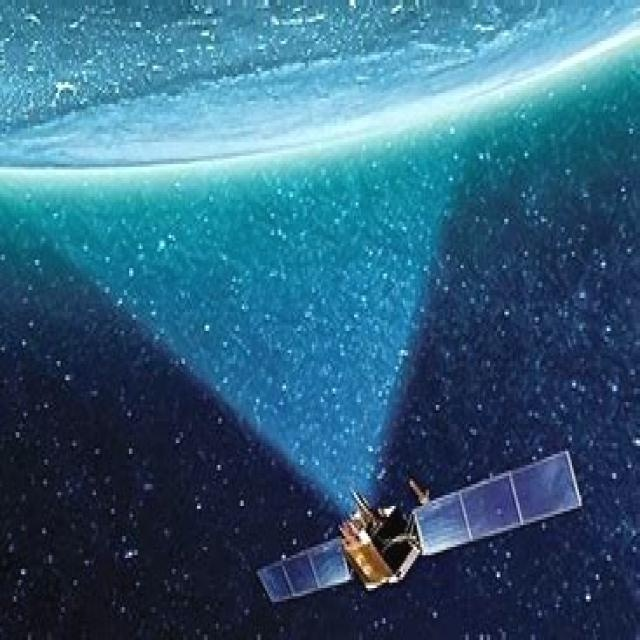satellite: (257, 434, 597, 625)
